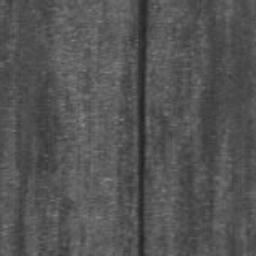Scratches: (137, 0, 149, 256)
